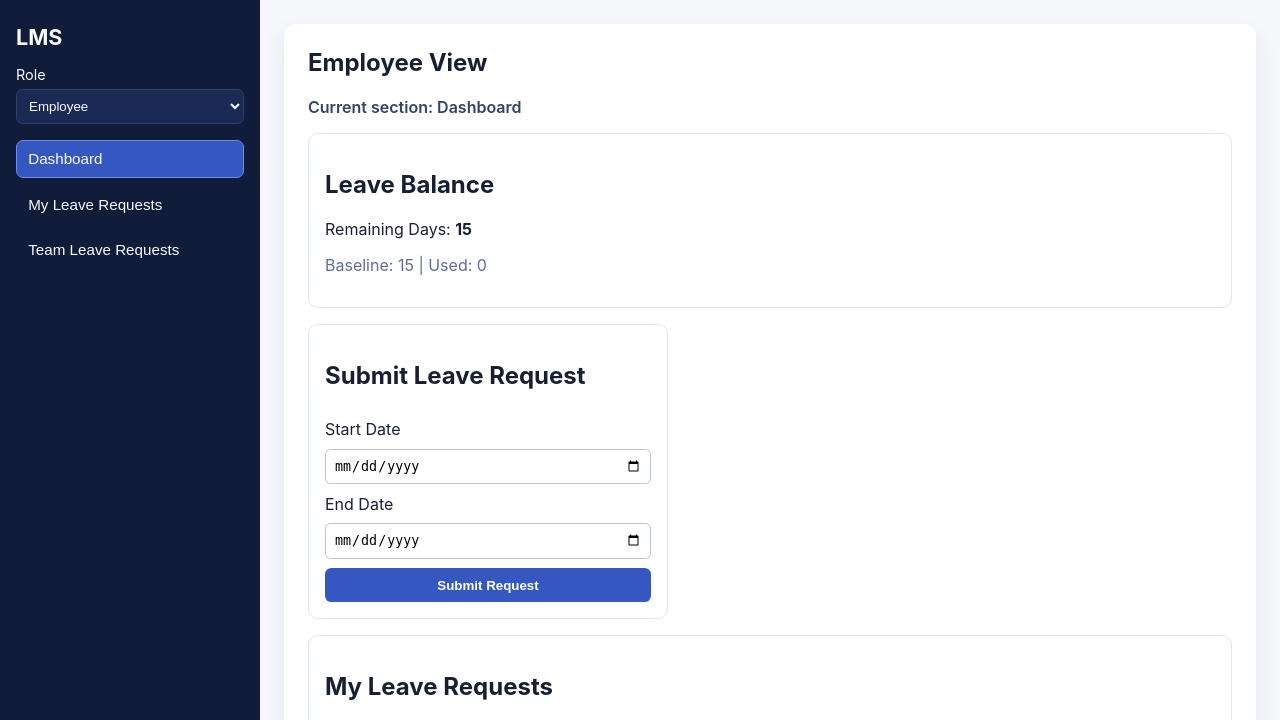
Test: App › manager gets approval-time error feedback when request exceeds remaining balance
The width and height of the screenshot is (1280, 720).
Check: the text "Remaining Days: 15" is shown, box [325,219,472,239]
Type "2026-08-01" into the date field labelled "Start Date".
click(488, 466); type("2026-08-01")  # box [325,449,651,484]
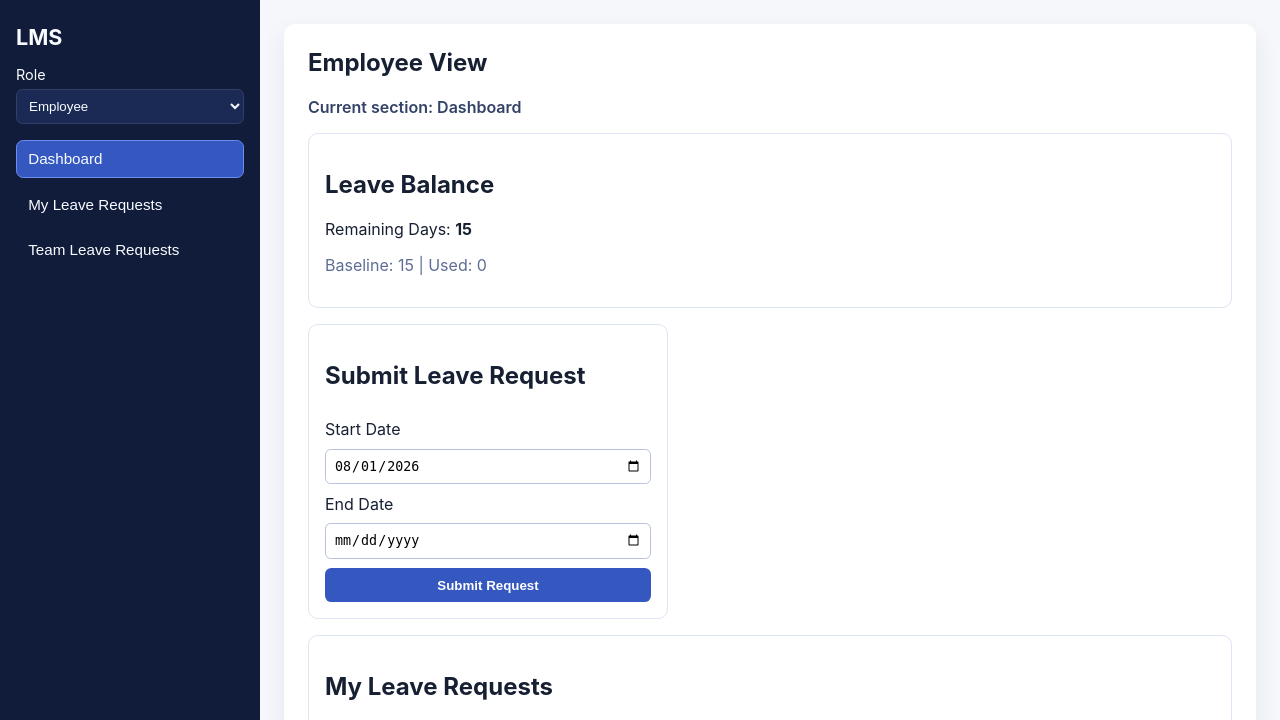
Type "2026-08-20" into the date field labelled "End Date".
click(488, 541); type("2026-08-20")  # box [325,523,651,558]
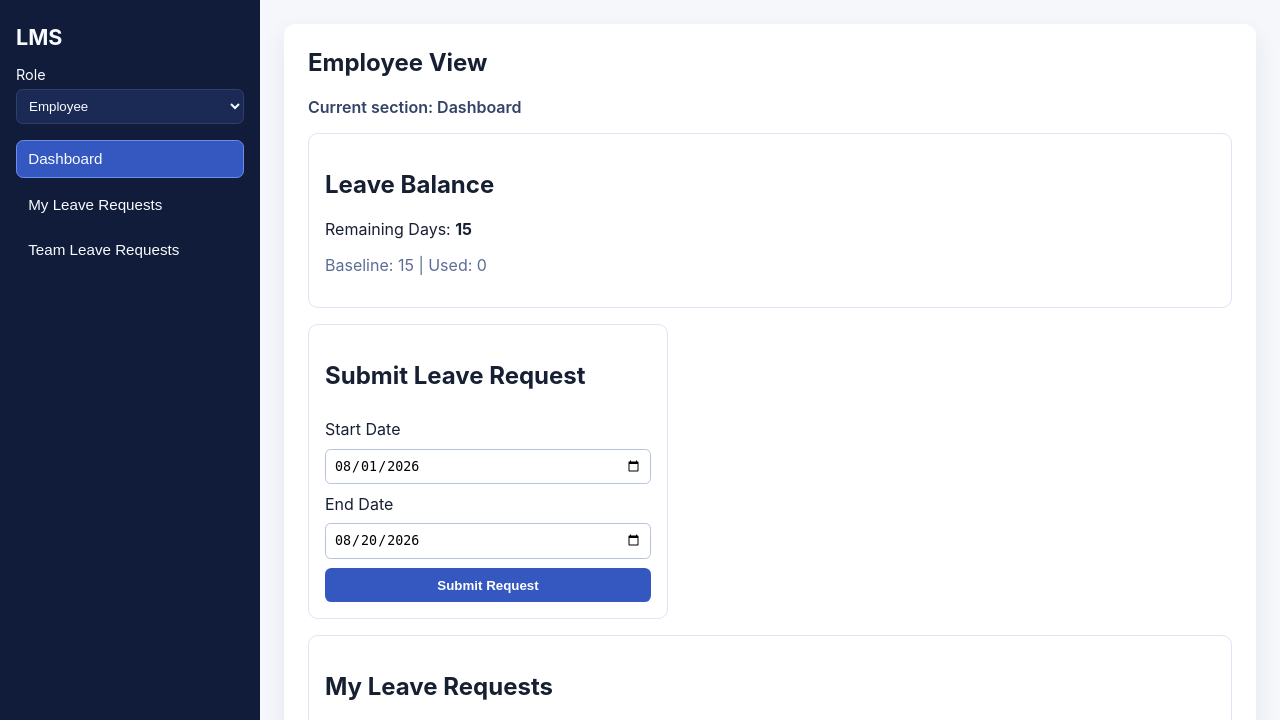
Click the button "Submit Request".
click(488, 585)  # box [325,568,651,602]
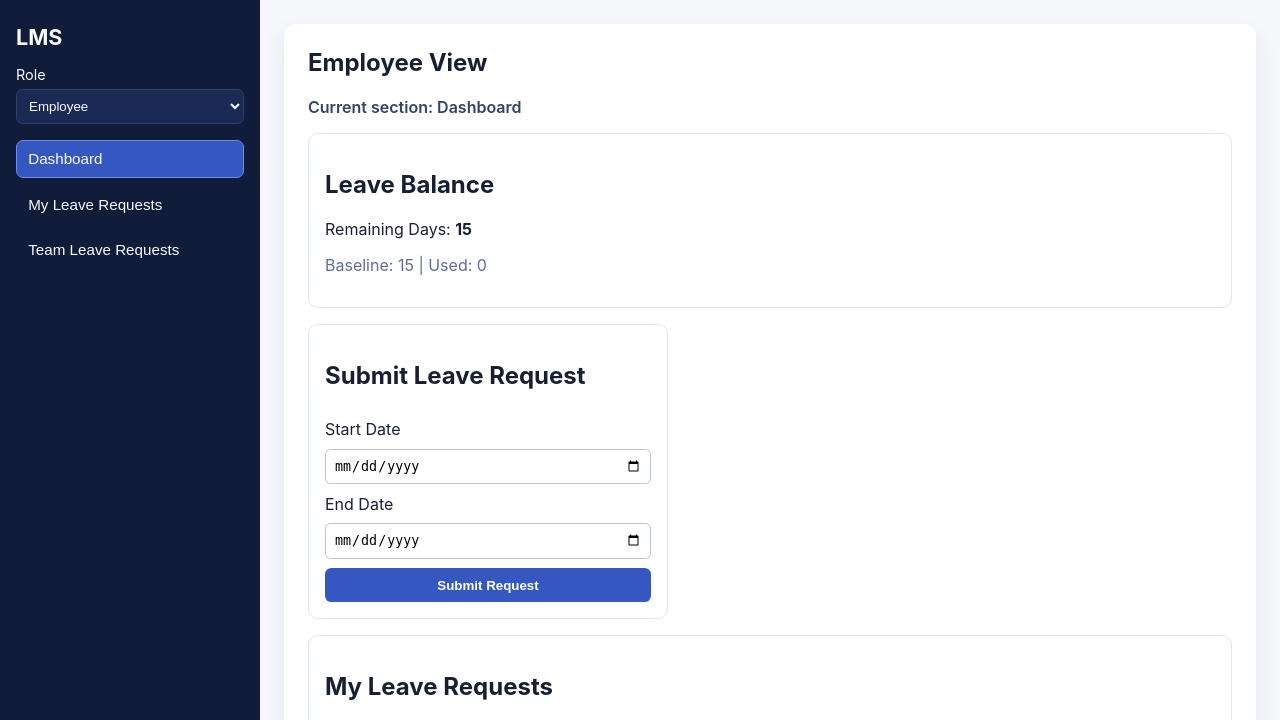
Select "Manager" in the dropdown labelled "Role" at [130, 106], box [16,89,244,124]
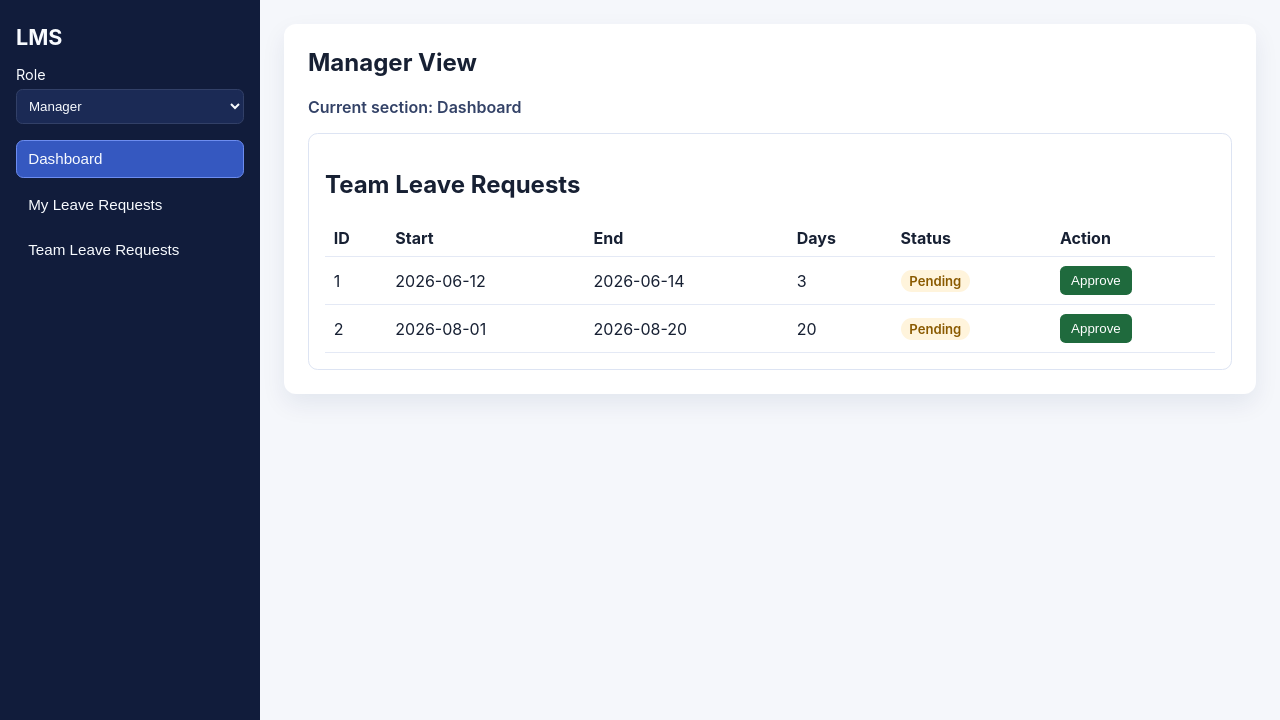
Click the button with aria-label "Approve request 2".
click(1096, 329)  # box [1060,314,1132,344]
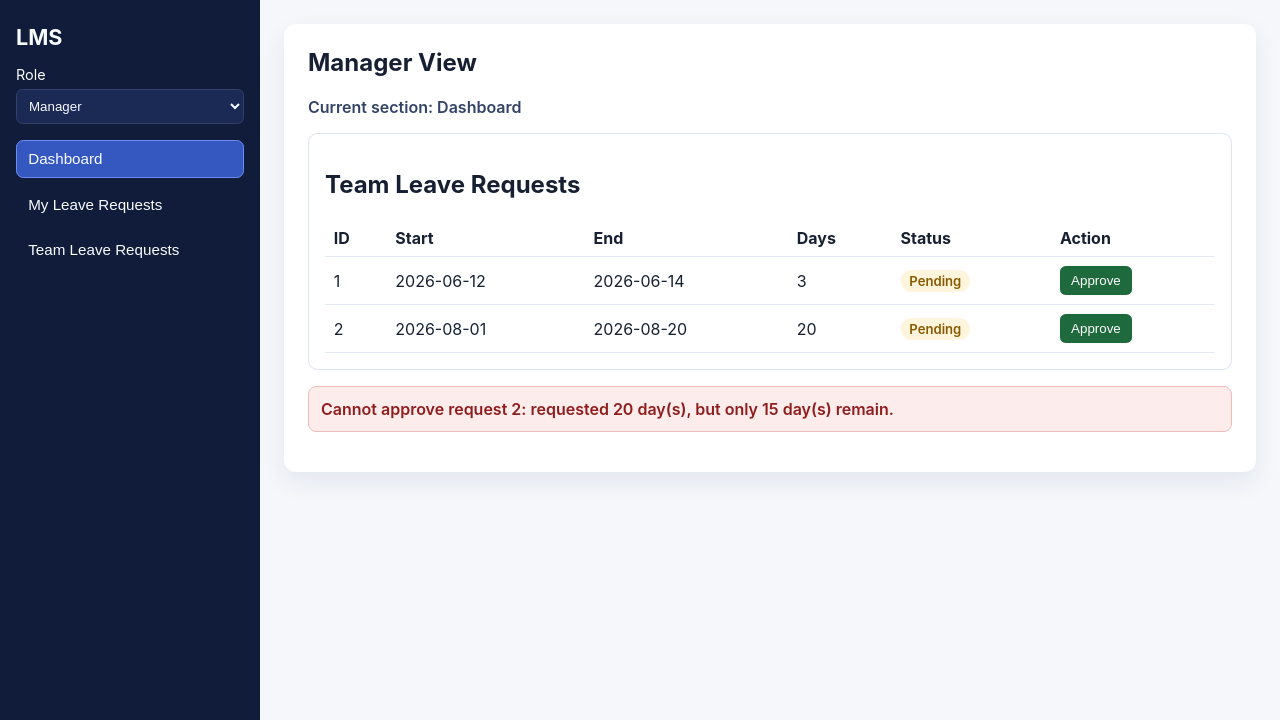
Check: the message shows "only 15 day(s) remain", box [321,399,894,419]
